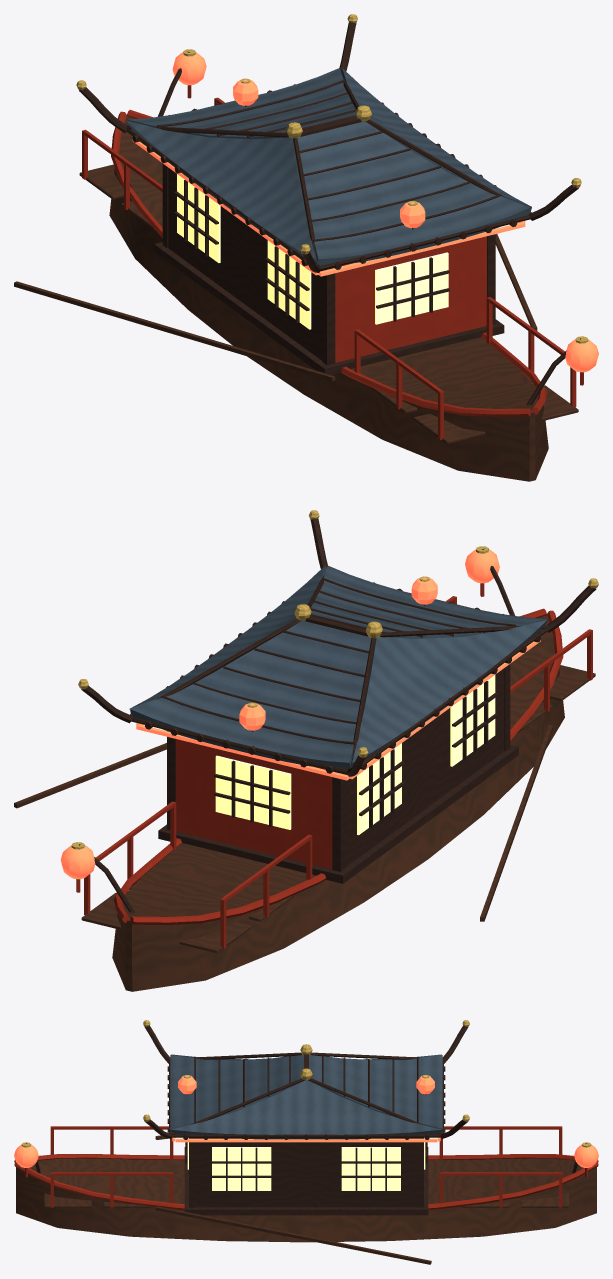
File: boat.glb
3 renders of one model, top to bottom at view 1: azimuth 30°, elevation 25°; view 2: azimuth 150°, elevation 25°; view 3: azimuth 270°, elevation 25°, orthographic. The views are drawn at different scales.
Parts seen in each view (by area): view 1: PROP_Boat_01; view 2: PROP_Boat_01; view 3: PROP_Boat_01.
Boxes of the visible parts, x1,y1,x2,y2 form: PROP_Boat_01: (14, 14, 598, 481); PROP_Boat_01: (14, 510, 598, 991); PROP_Boat_01: (14, 1020, 598, 1264).
Size of the model in its own units: 7.26 by 3.31 by 11.28.
7 materials, 7 textured.
